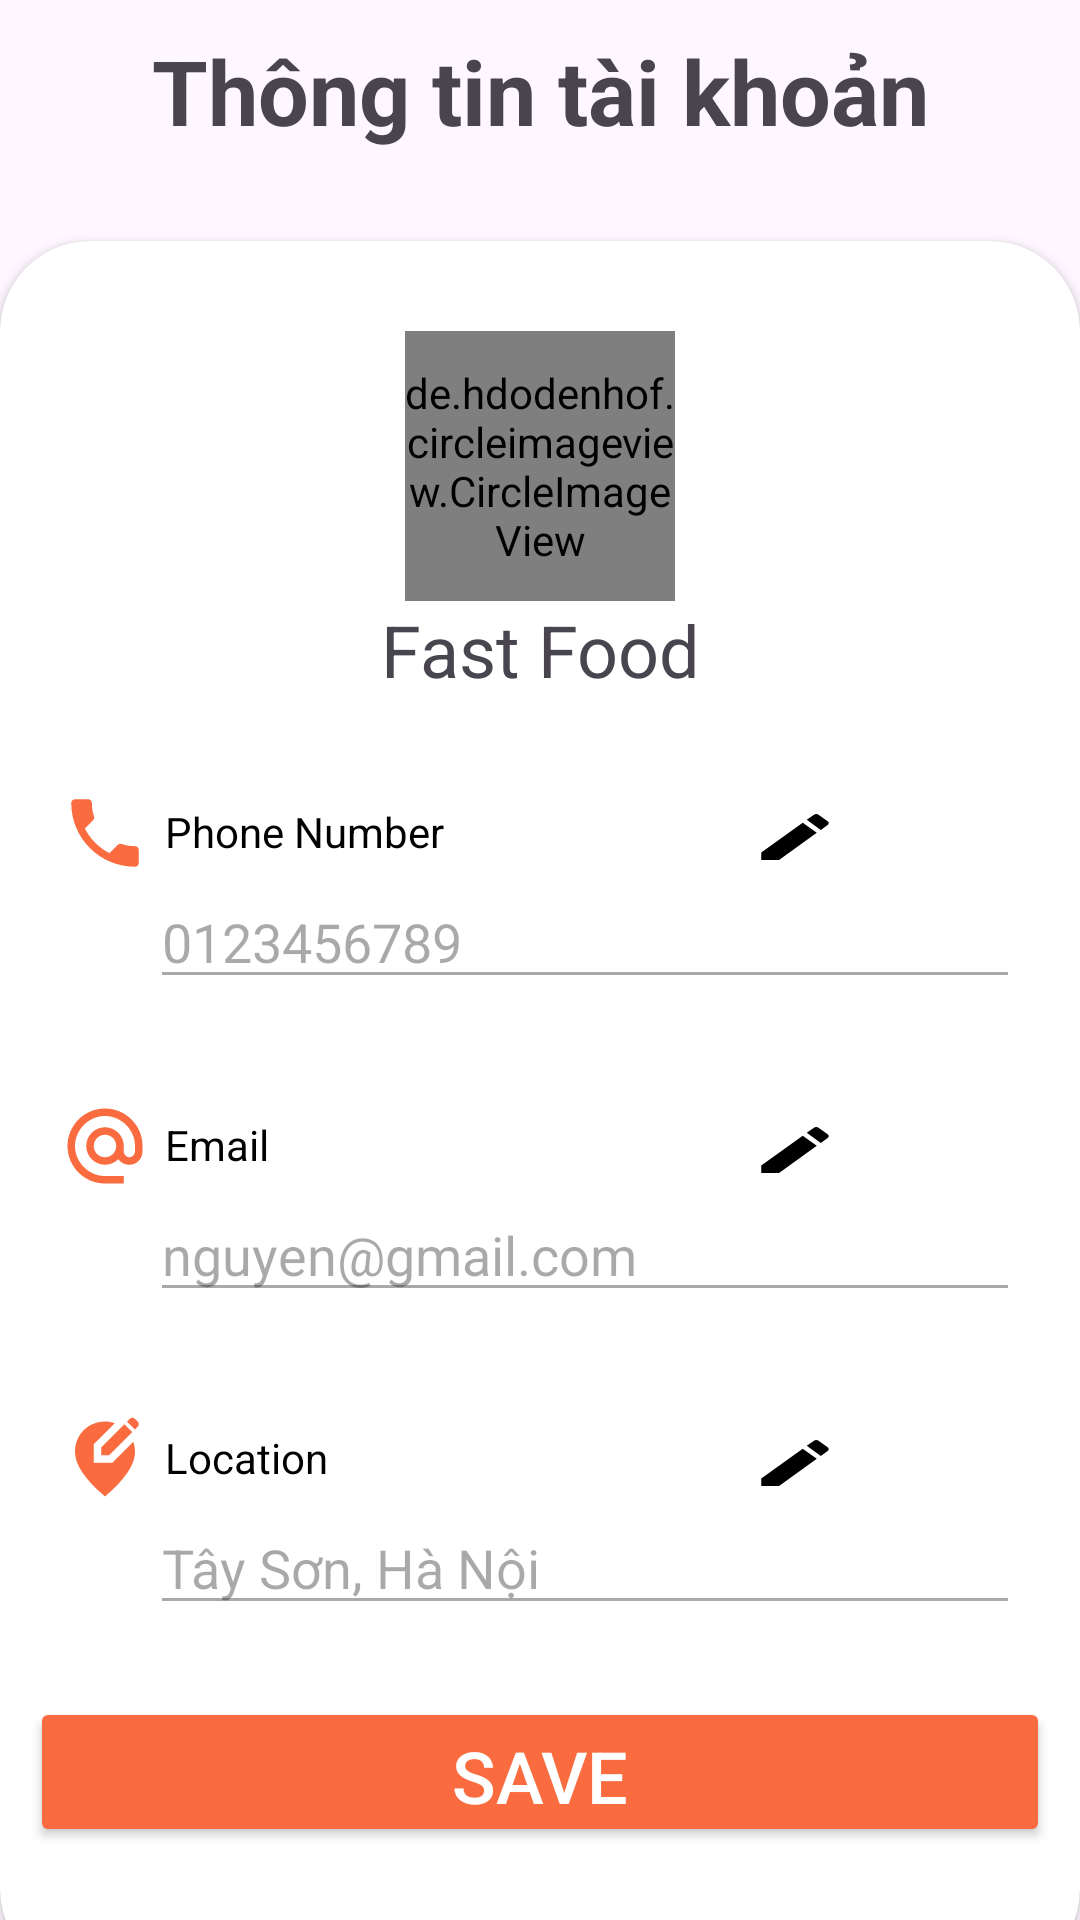

Where to tap for icons on this 1080w x 1920h app screen, as point (x, y):
edit: point (795, 837), point (795, 1150), point (795, 1463)
